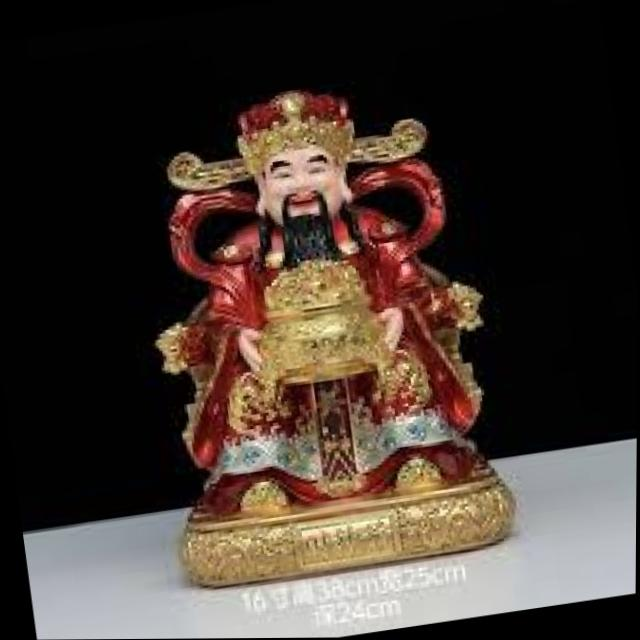Cai shen: (120, 57, 503, 525)
